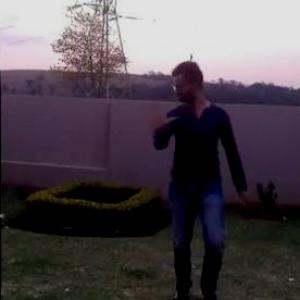follow_hand: (143, 97, 174, 129)
